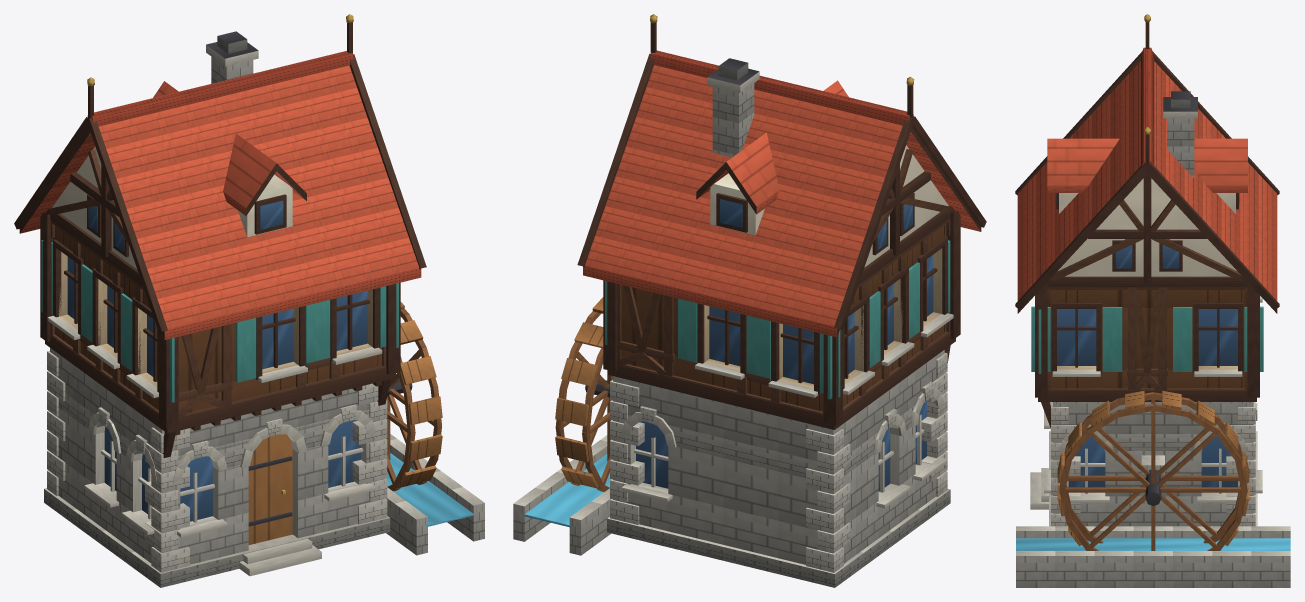
File: ind_watermill_01.glb
The picture shows the model from 3 angles, left to right: view 1: azimuth 30°, elevation 25°; view 2: azimuth 150°, elevation 25°; view 3: azimuth 270°, elevation 25°; orthographic projection. The views are drawn at different scales.
Parts seen in each view (by area): view 1: ind_watermill_01; view 2: ind_watermill_01; view 3: ind_watermill_01.
Part boxes in pixels (<box>): ind_watermill_01: <box>14,14,484,587</box>; ind_watermill_01: <box>513,14,986,587</box>; ind_watermill_01: <box>1015,14,1290,587</box>.
Size of the model in its own units: 8.52 by 12.22 by 7.02.
Materials: 1 (1 with a texture image).
